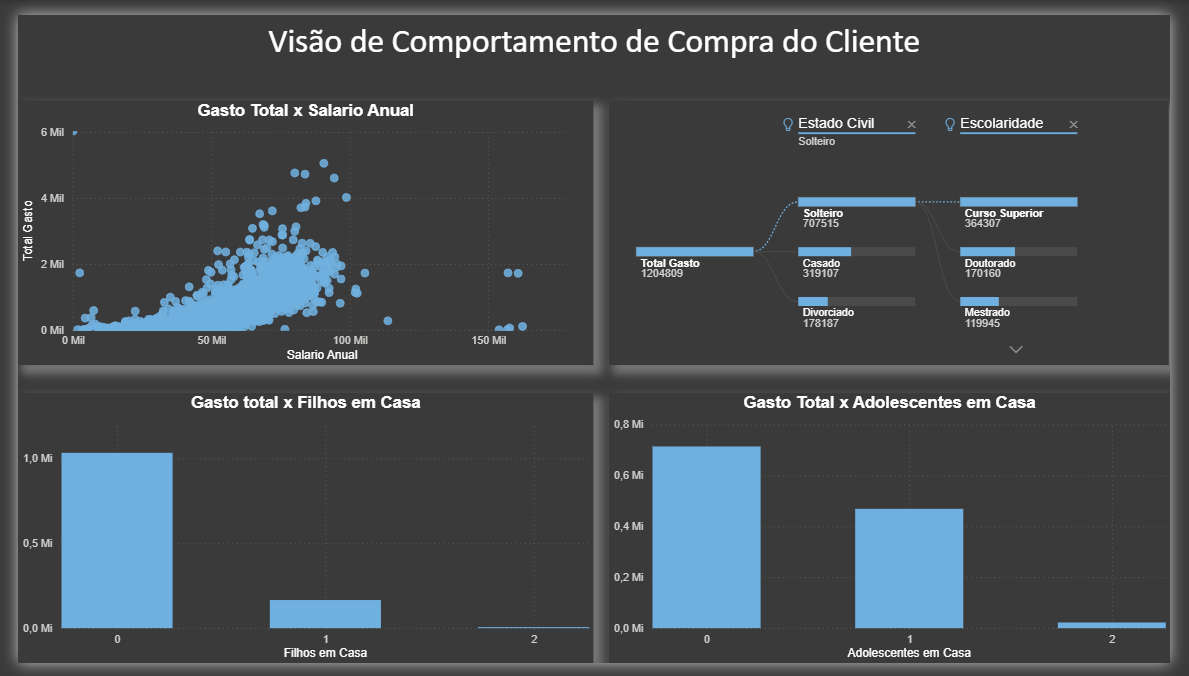

What the dashboard file says about the page in this screenshot:
{"tool":"powerbi","page":{"name":"Visão Comportamento","canvas":[1280,720],"ordinal":1},"visuals":[{"type":"scatterChart","title":"Gasto Total x Salario Anual","fields":{"X":["DadosMarketing.Salario Anual"],"Y":["DadosMarketing.Total Gasto"]},"box":[0,95.4,639.4,294.3],"z":0},{"type":"textbox","box":[0,0,1280.4,68.4],"z":1000},{"type":"clusteredColumnChart","title":"Gasto total x Filhos em Casa","fields":{"Y":["DadosMarketing.Total Gasto"],"Category":["DadosMarketing.Filhos em Casa"]},"box":[0,419.9,639.4,300.6],"z":2000},{"type":"clusteredColumnChart","title":"Gasto Total x Adolescentes em Casa","fields":{"Y":["DadosMarketing.Total Gasto"],"Category":["DadosMarketing.Adolescentes em Casa"]},"box":[656.9,419.9,623.5,300.6],"z":3000},{"type":"decompositionTreeVisual","fields":{"Analyze":["DadosMarketing.Total Gasto"],"ExplainBy":["DadosMarketing.Estado Civil","DadosMarketing.Escolaridade"]},"box":[656.9,95.4,621.9,294.3],"z":4000}]}

Visuals, with their boxes in screenshot pixels (x1, y1, x2, y2), scaled from the page's 1280x720 canvas onto the 1189x676 screenshot:
"Gasto Total x Salario Anual" scatterChart: box(0, 90, 594, 366)
textbox: box(0, 0, 1188, 64)
"Gasto total x Filhos em Casa" clusteredColumnChart: box(0, 394, 594, 675)
"Gasto Total x Adolescentes em Casa" clusteredColumnChart: box(610, 394, 1188, 675)
decompositionTreeVisual - DadosMarketing.Total Gasto x DadosMarketing.Estado Civil: box(610, 90, 1188, 366)
